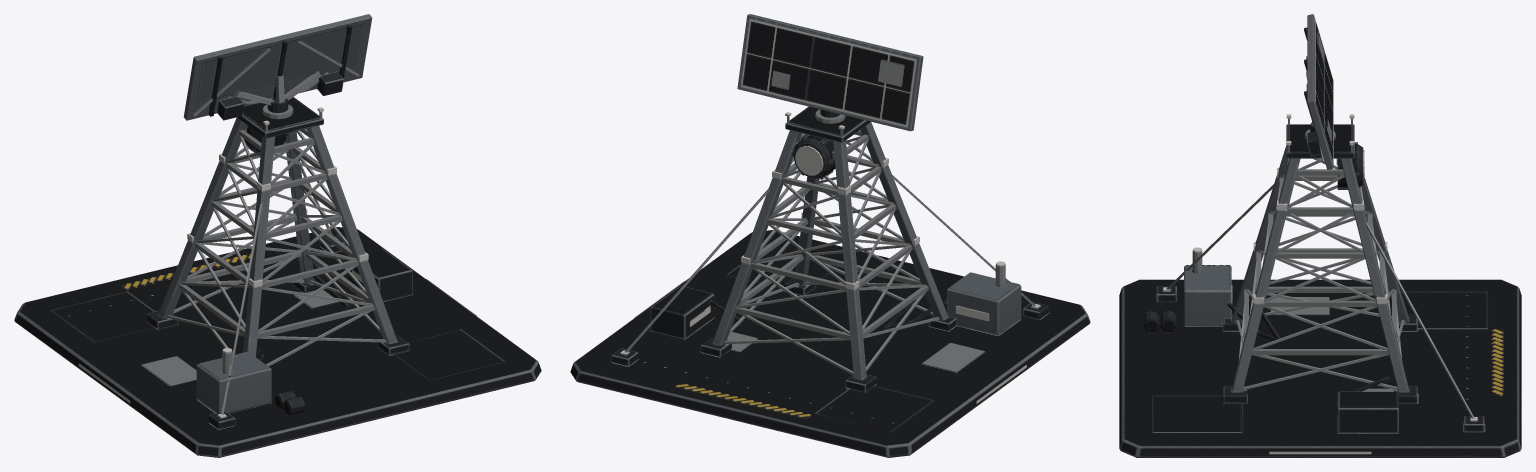
Rendered from chs_allseer.fbx.
The picture shows the model from 3 angles, left to right: view 1: azimuth 30°, elevation 25°; view 2: azimuth 150°, elevation 25°; view 3: azimuth 270°, elevation 25°; orthographic projection. The views are drawn at different scales.
Visible parts, largest first — view 1: base_bar, radar_bar, base_glow_running_bar; view 2: base_bar, radar_bar, base_glow_running_bar, radar_glow_running_bar; view 3: base_bar, radar_bar, base_glow_running_bar.
Part boxes in pixels (x1=…): base_bar: x1=14, y1=97, x2=541, y2=457; radar_bar: x1=183, y1=14, x2=372, y2=120; base_glow_running_bar: x1=78, y1=107, x2=477, y2=418; base_bar: x1=570, y1=106, x2=1090, y2=457; radar_bar: x1=737, y1=14, x2=923, y2=131; base_glow_running_bar: x1=620, y1=112, x2=1040, y2=403; radar_glow_running_bar: x1=741, y1=19, x2=916, y2=126; base_bar: x1=1119, y1=118, x2=1521, y2=457; radar_bar: x1=1304, y1=14, x2=1333, y2=169; base_glow_running_bar: x1=1163, y1=114, x2=1477, y2=454.
Size of the model in its own units: 2369 by 2246 by 2355.
2 materials, 2 textured.
